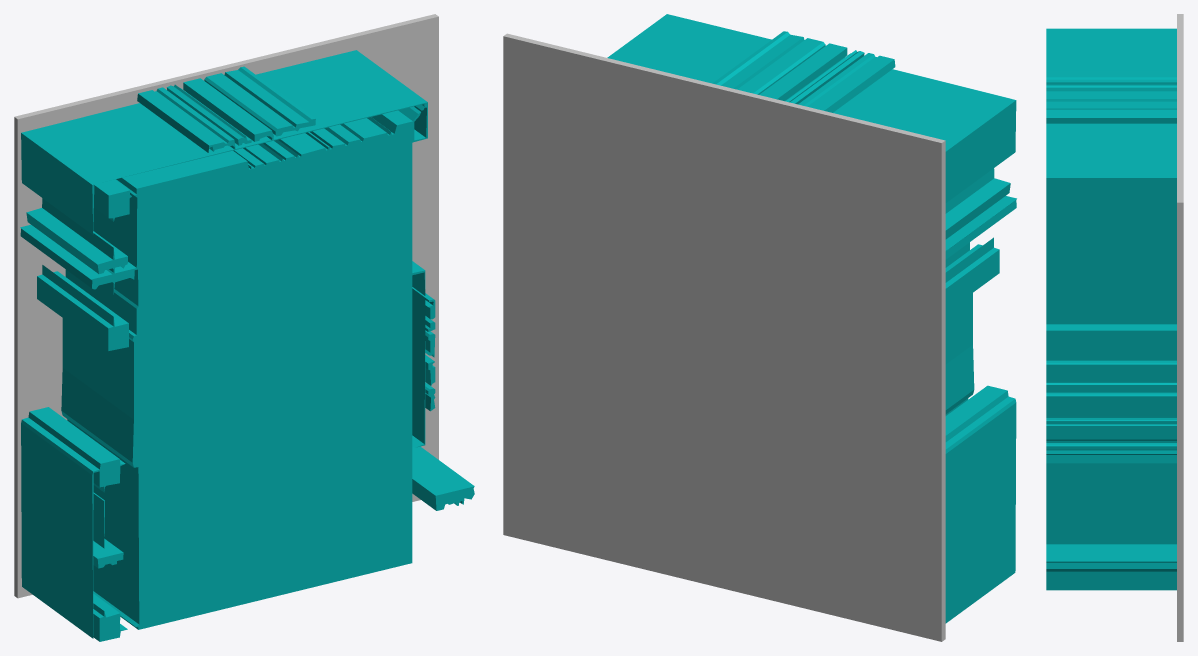
3 renders of one model, left to right at view 1: azimuth 30°, elevation 25°; view 2: azimuth 150°, elevation 25°; view 3: azimuth 270°, elevation 25°, orthographic. The views are drawn at different scales.
Visible parts, largest first — view 1: world; view 2: world; view 3: world.
Part boxes in pixels (bbox=[...]): world: bbox=[14, 14, 474, 641]; world: bbox=[503, 14, 1016, 641]; world: bbox=[1046, 14, 1183, 641].
Size of the model in its own units: 10.23 by 11.12 by 3.15.
